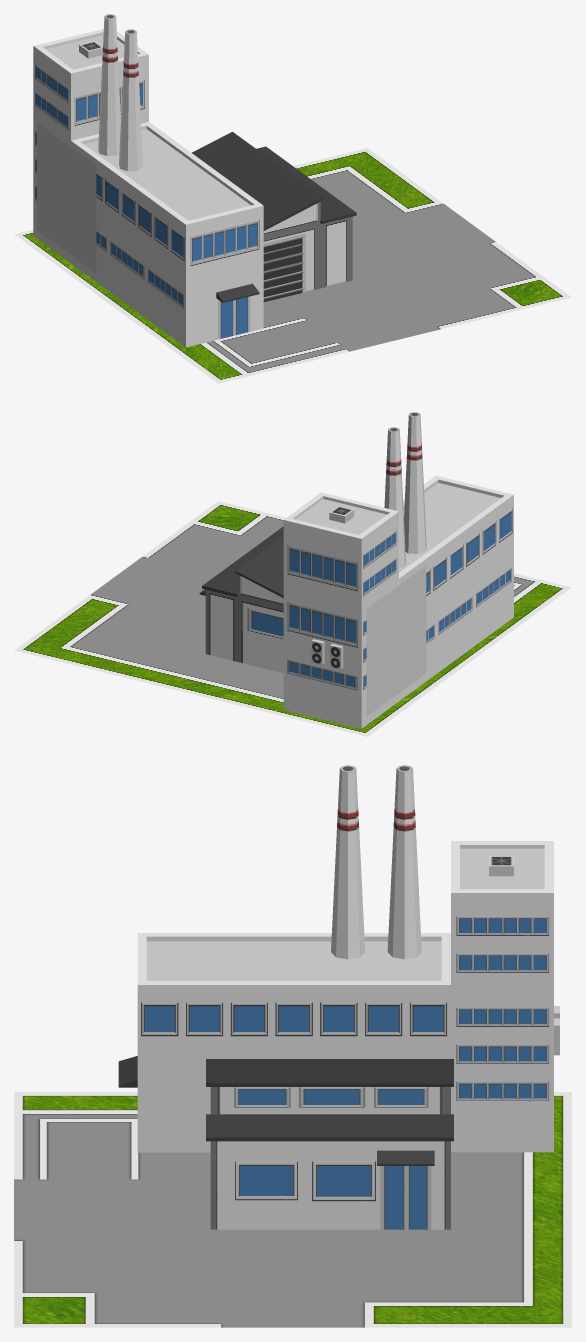
The model's file is Factory_Lvl_3.fbx.
3 renders of one model, top to bottom at view 1: azimuth 30°, elevation 25°; view 2: azimuth 150°, elevation 25°; view 3: azimuth 270°, elevation 25°, orthographic. The views are drawn at different scales.
Visible parts, largest first — view 1: Factory_Lvl_3, Factory_BG, Graffiti_001; view 2: Factory_Lvl_3, Factory_BG, Graffiti_001; view 3: Factory_Lvl_3, Factory_BG.
Boxes of the visible parts, x1,y1,x2,y2 form: Factory_Lvl_3: (33,14,356,347); Factory_BG: (14,148,571,383); Graffiti_001: (37,122,96,272); Factory_Lvl_3: (199,412,513,728); Factory_BG: (14,501,571,736); Graffiti_001: (366,565,426,716); Factory_Lvl_3: (118,765,559,1229); Factory_BG: (14,1092,571,1327).
Size of the model in its own units: 2000 by 1371 by 2000.
